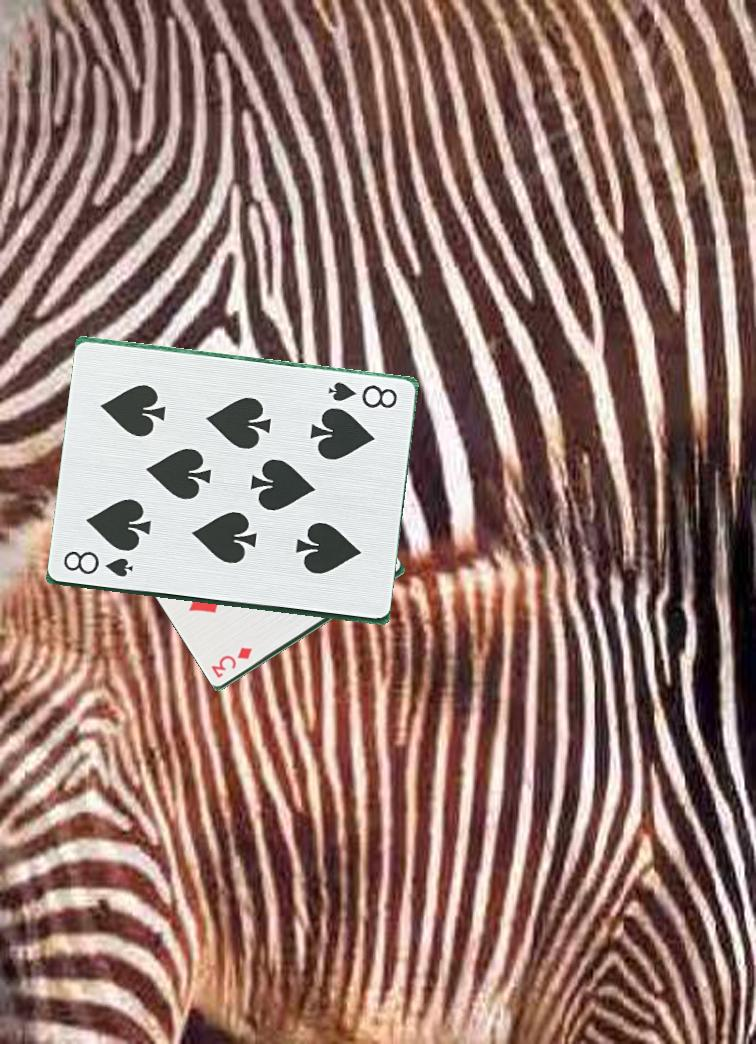3d: (208, 644, 255, 682)
8s: (325, 377, 409, 413), (60, 548, 140, 580)
